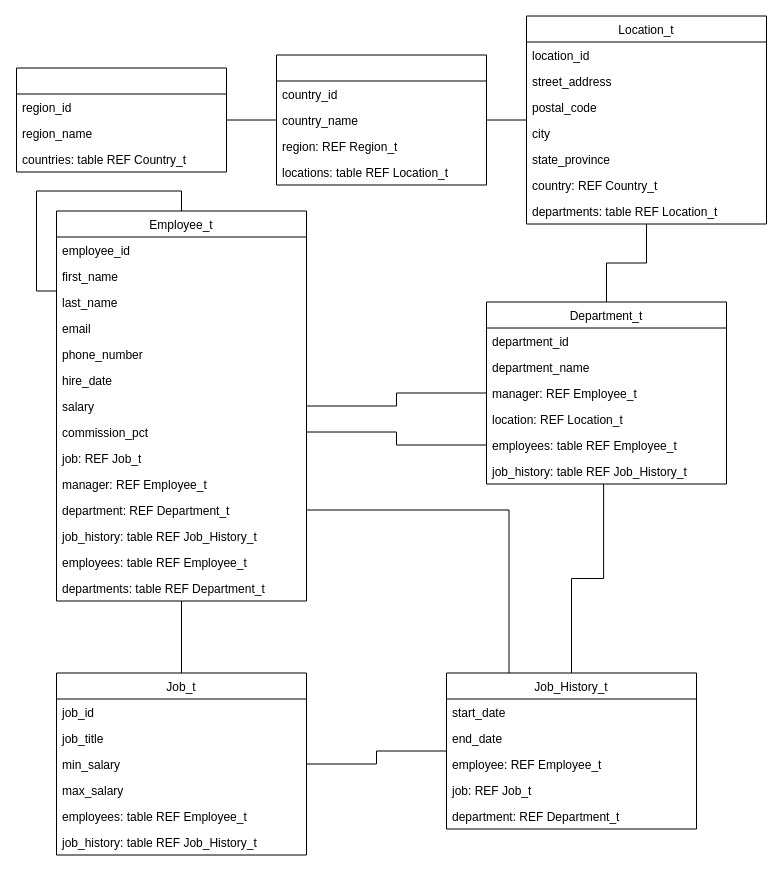
The diagram is 783 pixels wide and 871 high, and some of its shapes have lost their labels. The shapes that lost their labels are listed below. From the top down, each one's box as (x1, y1, x2, y2) in pixels, then its label:
(16, 67, 226, 172): Region_t
(276, 54, 486, 185): Country_t
